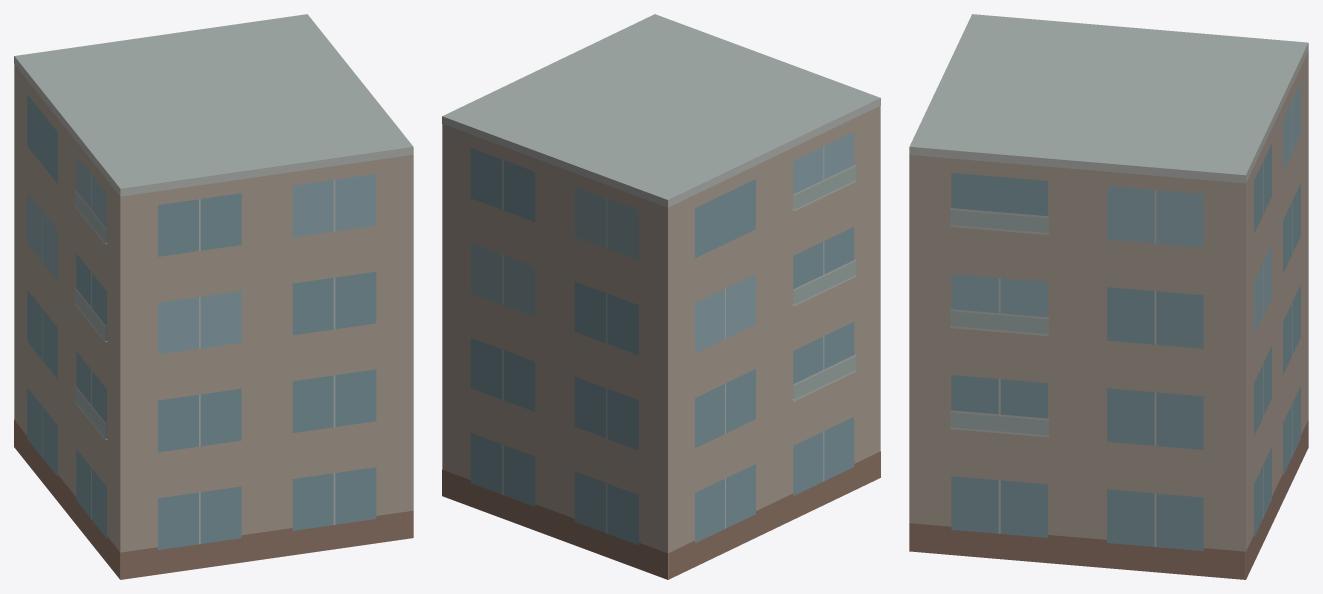
The model's file is residential-b8698bee-a119-4e09-a348-a5bd7c93f7c9.glb.
3 views of the same model, side by side, from view 1: azimuth 30°, elevation 25°; view 2: azimuth 150°, elevation 25°; view 3: azimuth 270°, elevation 25° (orthographic). The views are drawn at different scales.
Visible parts, largest first — view 1: residential-b8698bee-a119-4e09-a348-a5bd7c93f7c9.tmp; view 2: residential-b8698bee-a119-4e09-a348-a5bd7c93f7c9.tmp; view 3: residential-b8698bee-a119-4e09-a348-a5bd7c93f7c9.tmp.
Part boxes in pixels (<box>): residential-b8698bee-a119-4e09-a348-a5bd7c93f7c9.tmp: <box>14,14,413,579</box>; residential-b8698bee-a119-4e09-a348-a5bd7c93f7c9.tmp: <box>442,14,880,579</box>; residential-b8698bee-a119-4e09-a348-a5bd7c93f7c9.tmp: <box>909,14,1308,579</box>.
Size of the model in its own units: 10.44 by 12.2 by 10.92.
